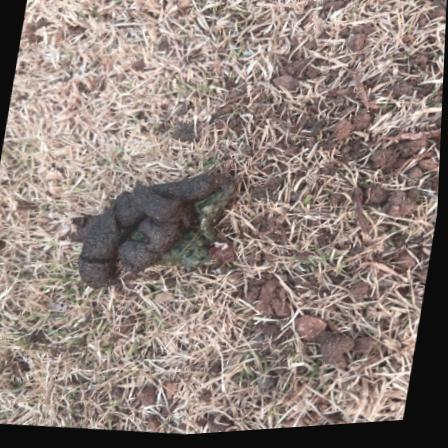dog-poop: (60, 158, 226, 302)
